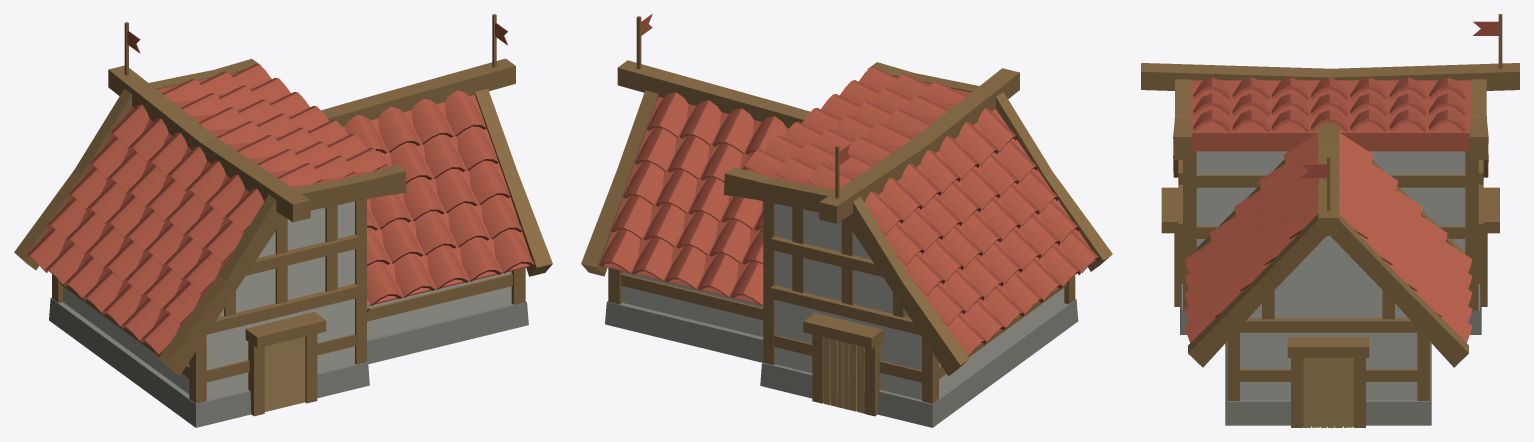
Rendered from House-k6tP5nFUd2.glb.
The picture shows the model from 3 angles, left to right: view 1: azimuth 30°, elevation 25°; view 2: azimuth 150°, elevation 25°; view 3: azimuth 270°, elevation 25°; orthographic projection. The views are drawn at different scales.
Parts seen in each view (by area): view 1: Houses_SecondAge_2_Level2; view 2: Houses_SecondAge_2_Level2; view 3: Houses_SecondAge_2_Level2.
Boxes of the visible parts, x1,y1,x2,y2 form: Houses_SecondAge_2_Level2: (14,14,552,427); Houses_SecondAge_2_Level2: (581,14,1112,427); Houses_SecondAge_2_Level2: (1141,14,1519,427).
Size of the model in its own units: 1.55 by 0.9455 by 1.17.
